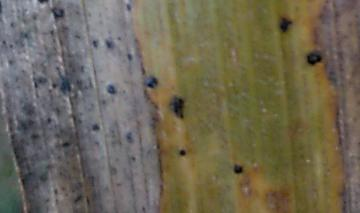tarspot: (55, 64, 72, 97), (168, 95, 186, 120), (305, 50, 324, 67), (278, 14, 292, 35), (49, 7, 66, 21), (145, 75, 158, 90), (232, 162, 244, 176), (124, 131, 135, 144), (106, 83, 116, 97), (91, 122, 102, 133), (73, 193, 83, 205), (35, 1, 53, 7), (29, 132, 41, 141), (84, 193, 91, 207), (178, 148, 187, 158), (61, 140, 70, 150), (124, 2, 132, 13), (105, 39, 112, 51), (32, 79, 39, 91), (6, 57, 14, 67), (126, 52, 134, 61), (31, 12, 39, 21), (72, 33, 82, 40), (21, 32, 29, 40), (91, 39, 97, 49), (1, 1, 5, 16), (115, 36, 123, 43), (8, 21, 15, 29), (46, 116, 52, 125), (50, 82, 57, 89), (1, 38, 7, 46), (130, 155, 136, 162), (8, 42, 14, 49)
